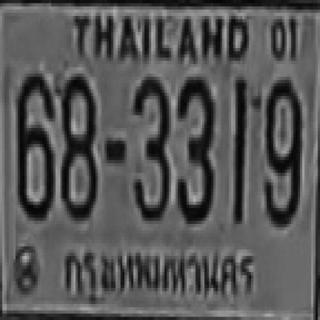N01: (232, 78, 246, 222), (232, 77, 246, 218)
N03: (131, 75, 169, 219), (176, 74, 213, 221)
N06: (16, 70, 53, 218)
N08: (60, 74, 96, 218)
N09: (262, 77, 300, 224)
P04: (61, 243, 263, 312)
